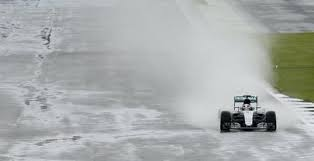FormulaOneCar: (216, 92, 279, 136)
